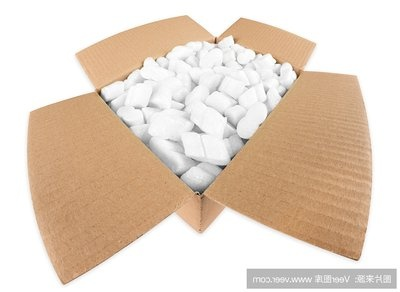5/可回收垃圾/泡沫: (98, 35, 301, 192)
